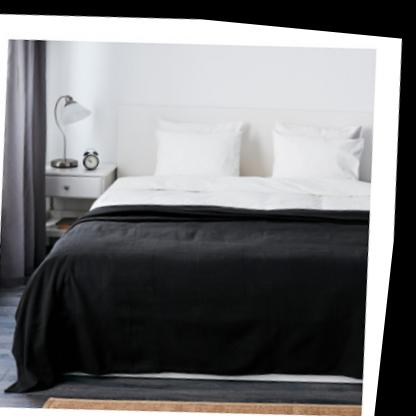Bed: (26, 76, 398, 401)
